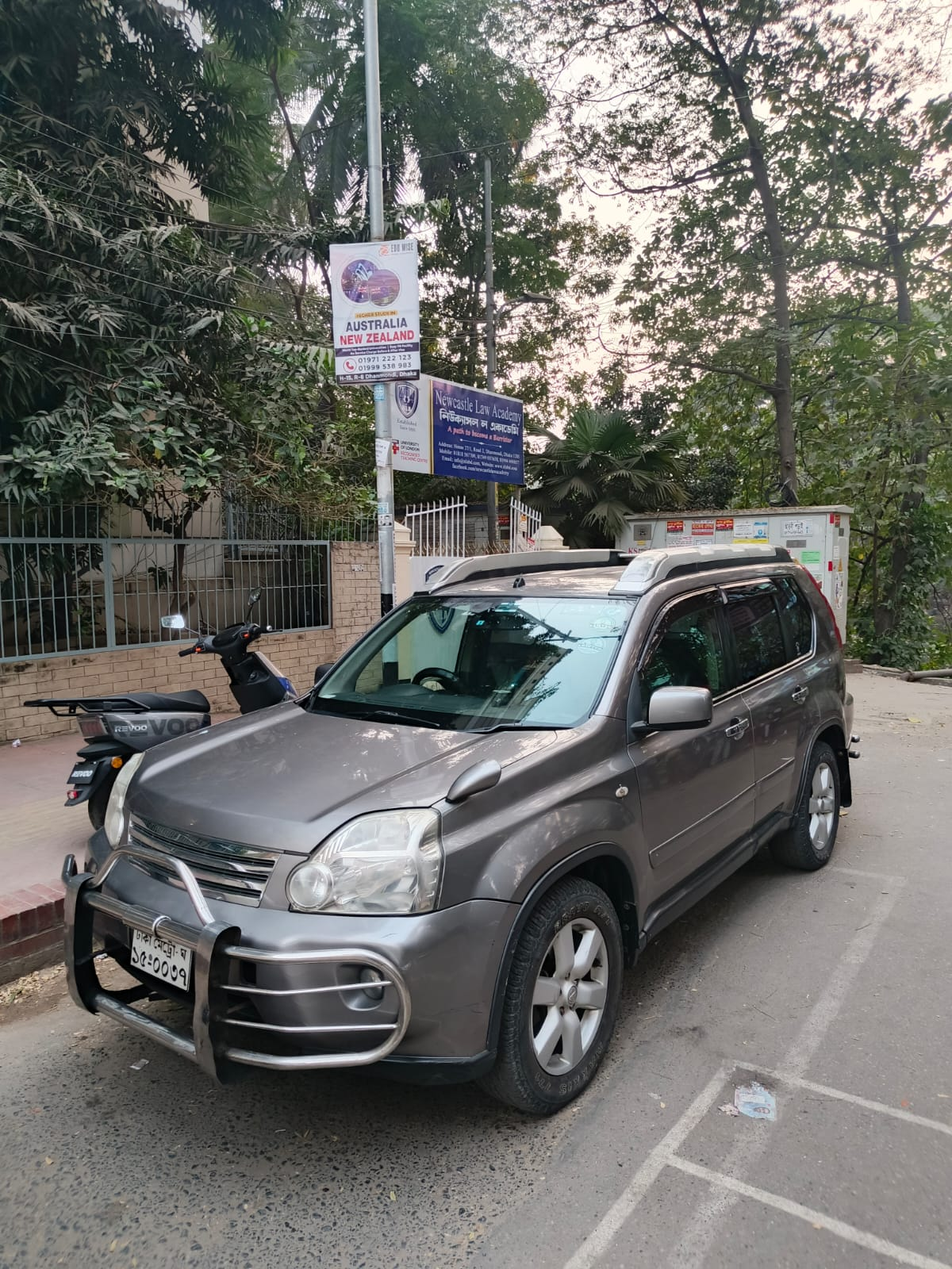Bikes: (0, 609, 322, 760)
private car: (29, 505, 855, 1113)
